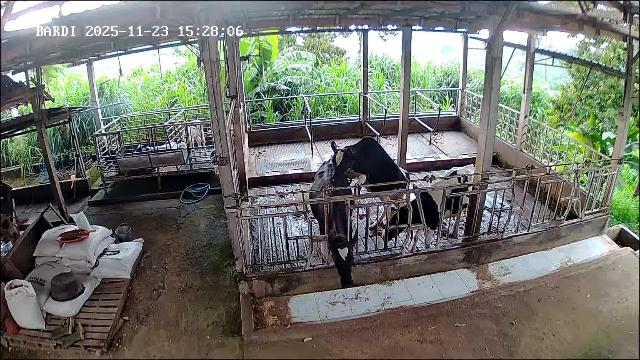mounting: (329, 137, 410, 230)
